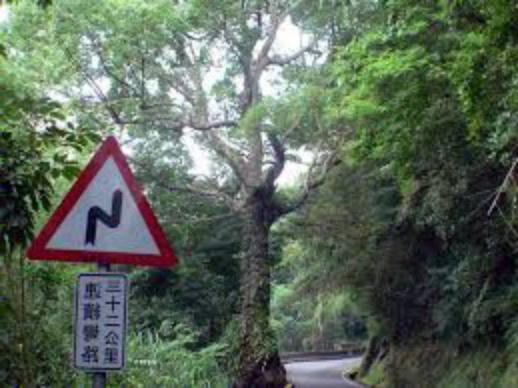double_bend_right: (28, 135, 179, 266)
